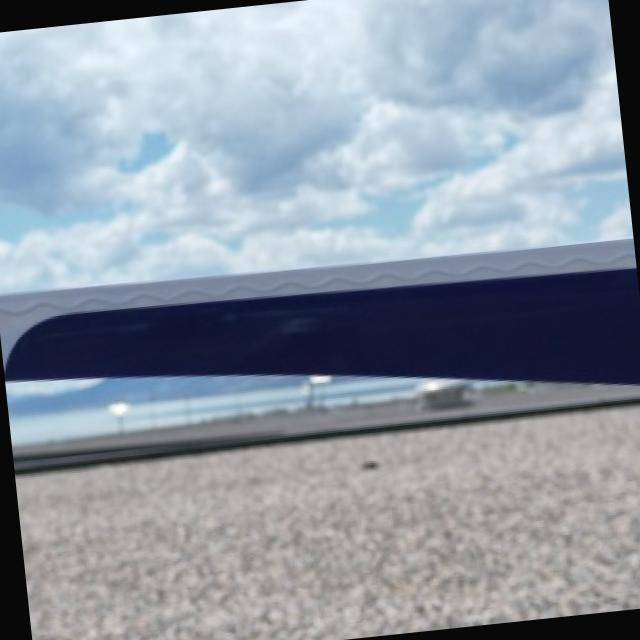healthy: (306, 387, 640, 435), (12, 434, 219, 468), (216, 427, 306, 445)
